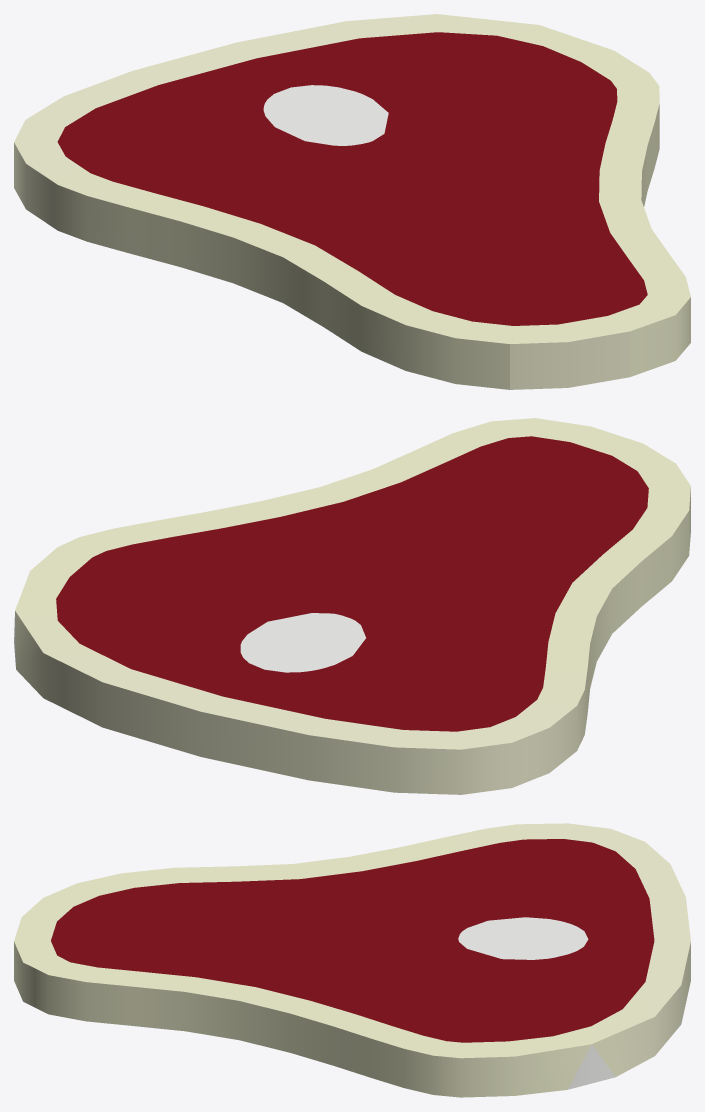
The model's file is toon_steak_min.glb.
The picture shows the model from 3 angles, top to bottom: view 1: azimuth 30°, elevation 25°; view 2: azimuth 150°, elevation 25°; view 3: azimuth 270°, elevation 25°; orthographic projection. The views are drawn at different scales.
Parts seen in each view (by area): view 1: bistecca.001_Material.002_0; view 2: bistecca.001_Material.002_0; view 3: bistecca.001_Material.002_0.
Boxes of the visible parts, bbox=[...] form: bistecca.001_Material.002_0: bbox=[14, 14, 690, 389]; bistecca.001_Material.002_0: bbox=[14, 418, 690, 794]; bistecca.001_Material.002_0: bbox=[14, 823, 690, 1097].
Size of the model in its own units: 29.21 by 2.28 by 35.59.
Materials: 1 (1 with a texture image).
